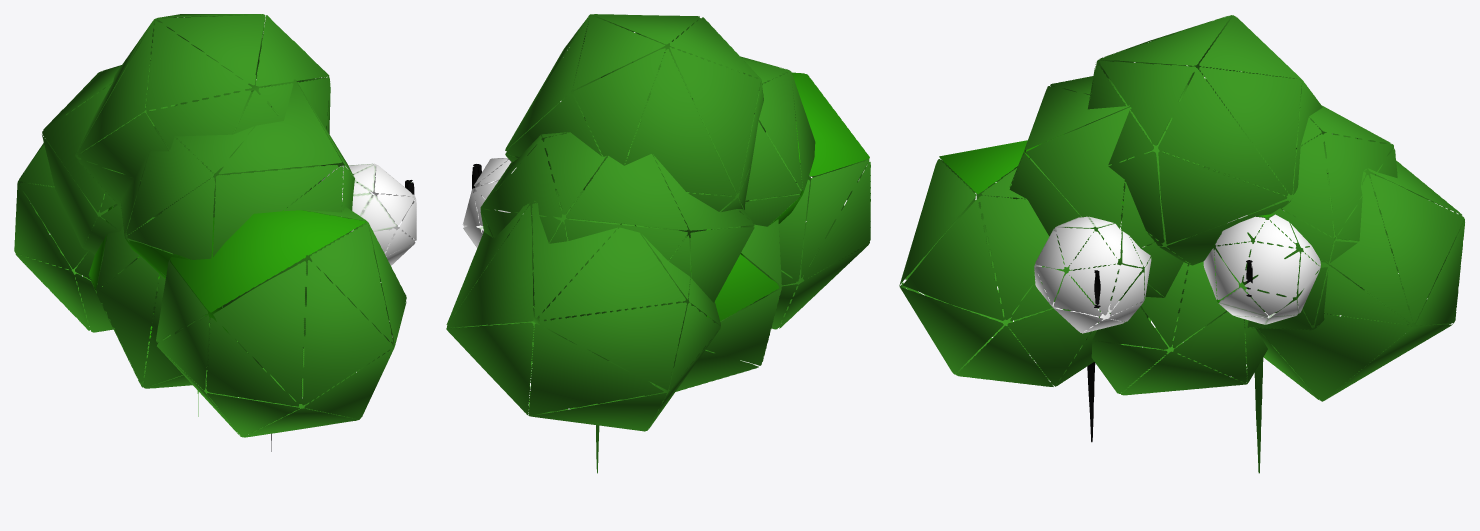
The model's file is Bushy.fbx.
3 renders of one model, left to right at view 1: azimuth 30°, elevation 25°; view 2: azimuth 150°, elevation 25°; view 3: azimuth 270°, elevation 25°, orthographic. The views are drawn at different scales.
Parts seen in each view (by area): view 1: Sphere; view 2: Sphere; view 3: Sphere.
Part boxes in pixels (x1,y1,x2,y2): Sphere: [14, 14, 416, 451]; Sphere: [446, 14, 870, 473]; Sphere: [899, 15, 1464, 473].
Size of the model in its own units: 254 by 406 by 439.
1 material, 1 textured.
